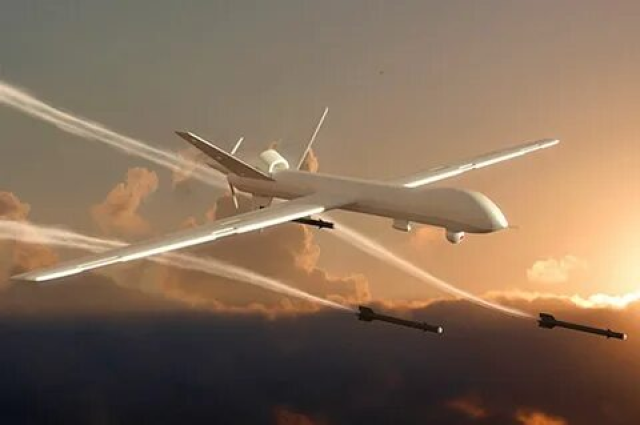military drone: (8, 106, 561, 281)
